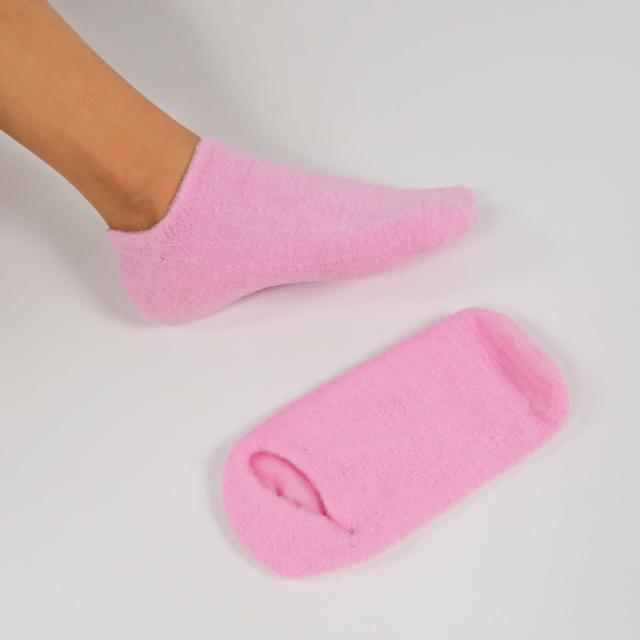sock: (221, 305, 571, 579), (104, 134, 478, 326)
